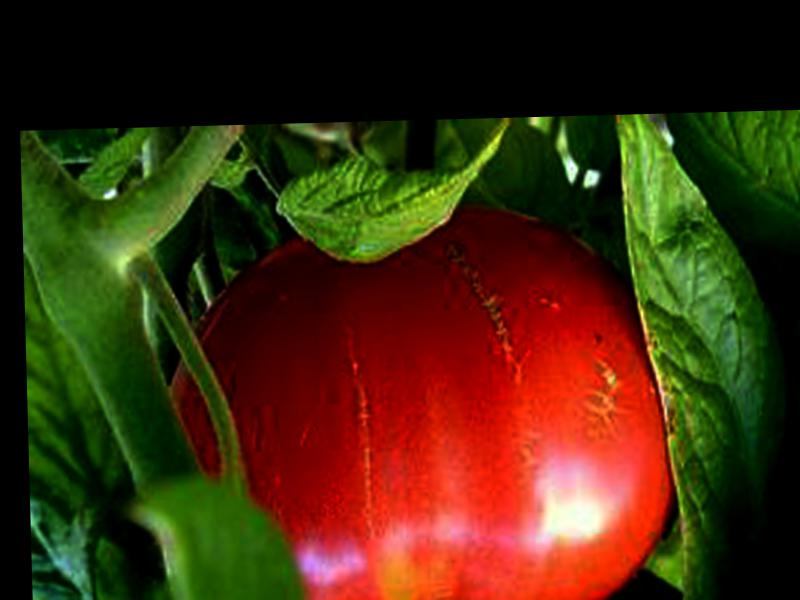Tomato: (167, 203, 683, 600)
